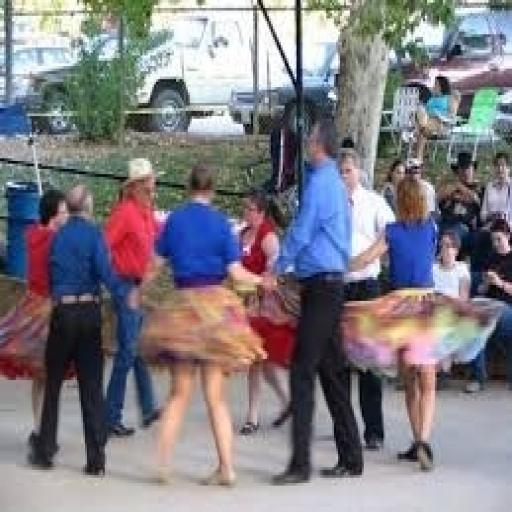dancing: (7, 92, 455, 512)
